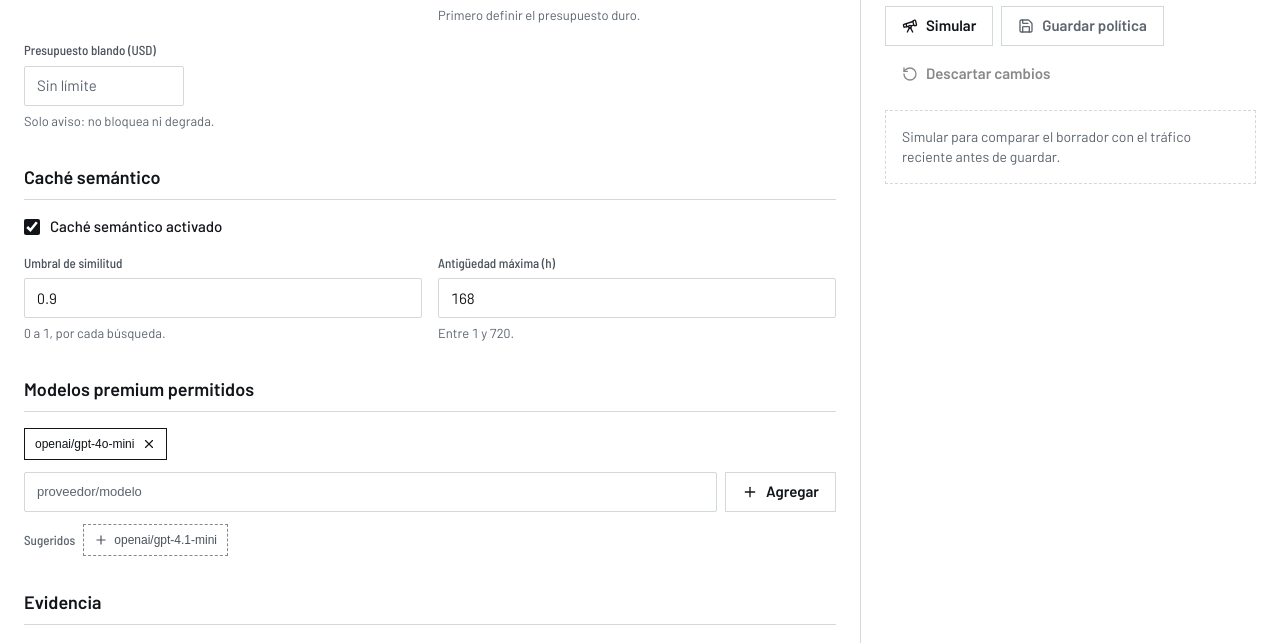
Test: policy-form › blocks save when cache tuning values are outside the enforced bounds
(page scrolled)
Replace the text in the field labelled "Umbral de similitud" with "1.2" at (223, 298), box [24, 278, 422, 318]
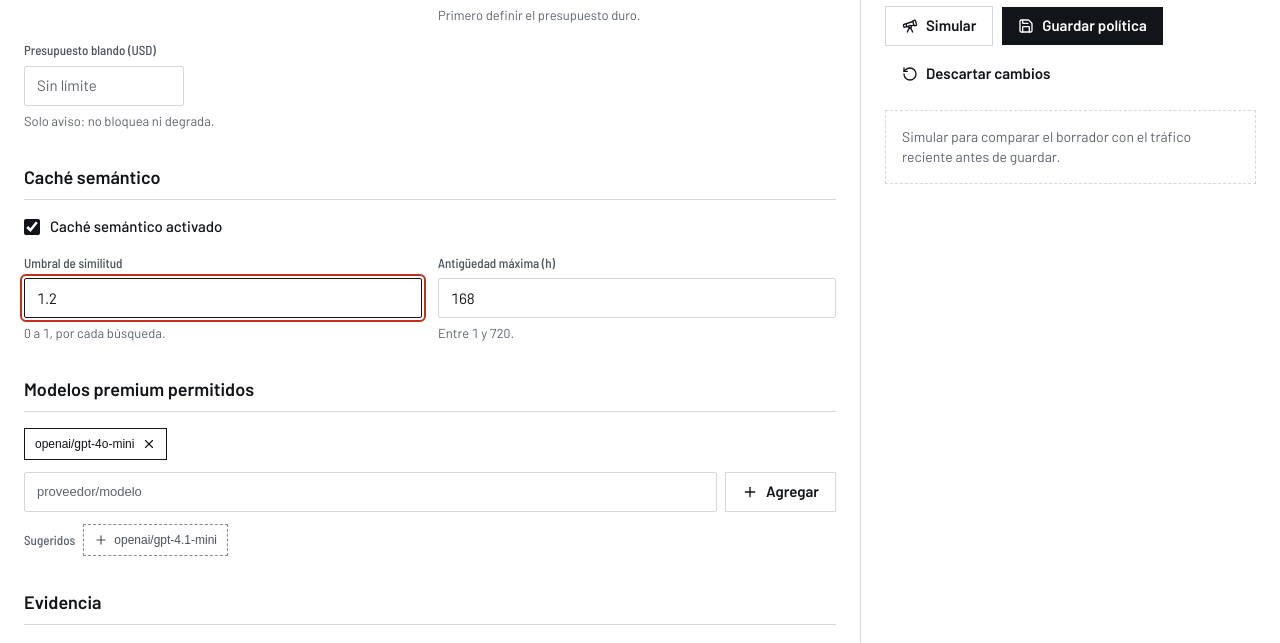
Click the button "Guardar política" at (1083, 26), box [1001, 6, 1164, 46]
(page scrolled)
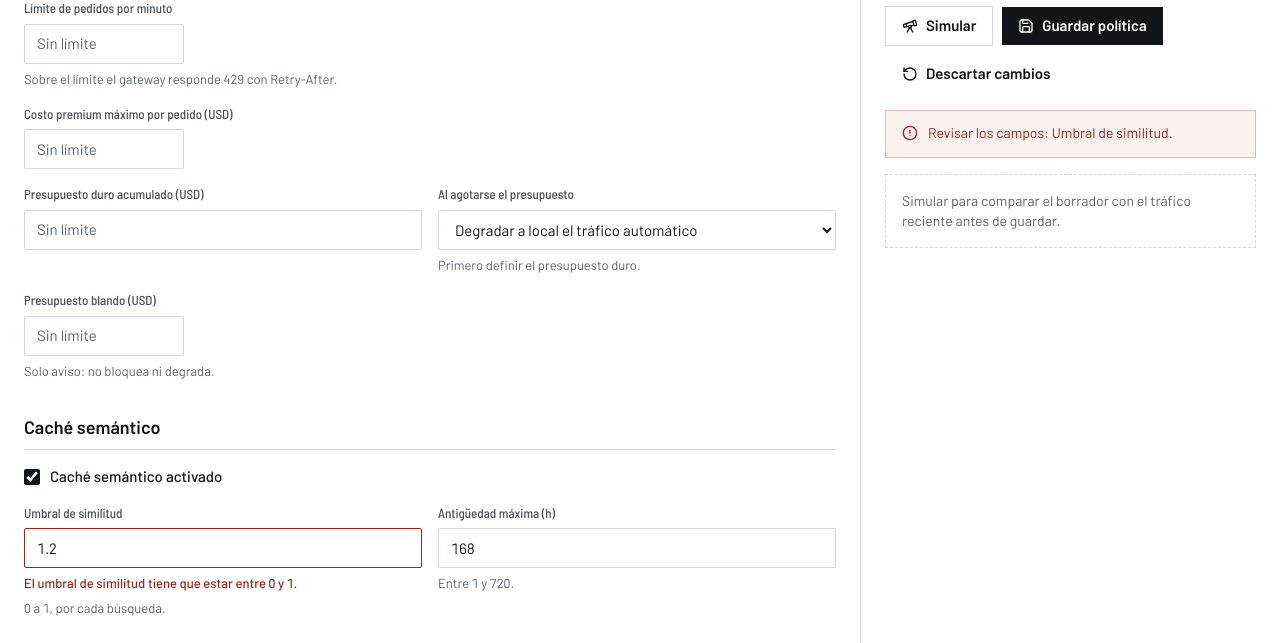
Expected: the element "Vista previa" shows "Revisar los campos: Umbral de similitud.", [928, 124, 1173, 141]
